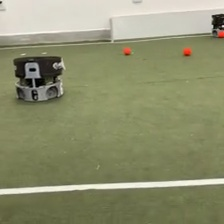ball: (183, 46, 191, 56), (123, 46, 131, 55), (217, 31, 224, 37)
goal: (108, 7, 224, 43)
robot: (12, 54, 65, 104), (209, 12, 224, 38)
